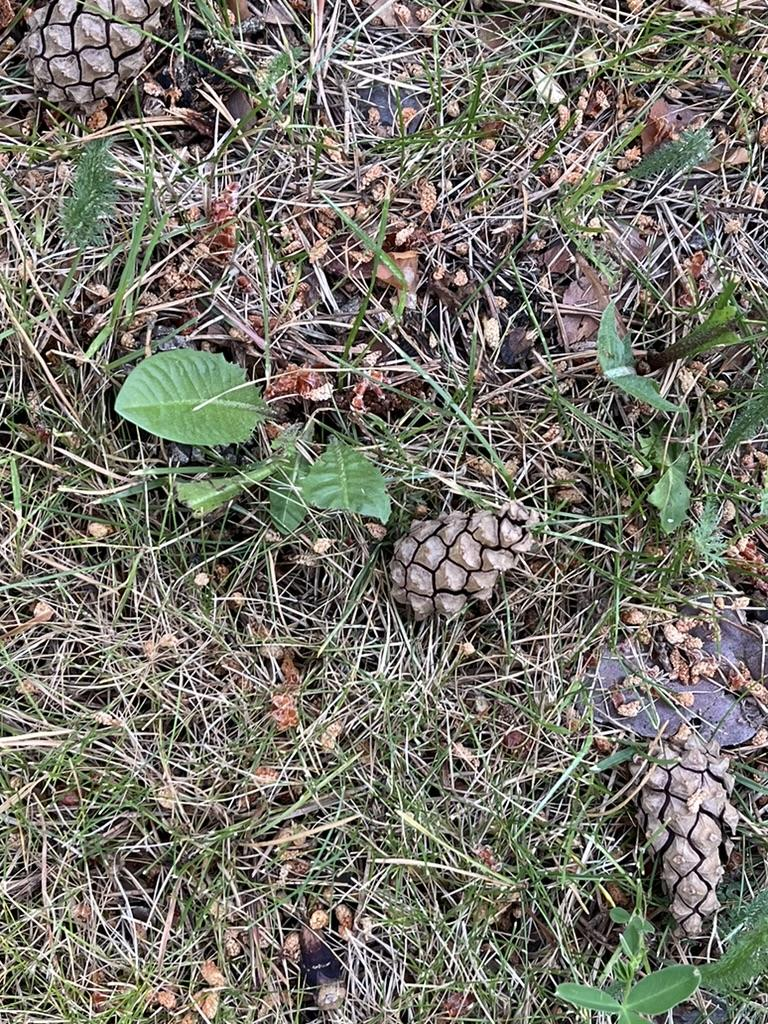pine: (376, 486, 564, 633), (8, 0, 206, 128), (626, 720, 736, 950)
